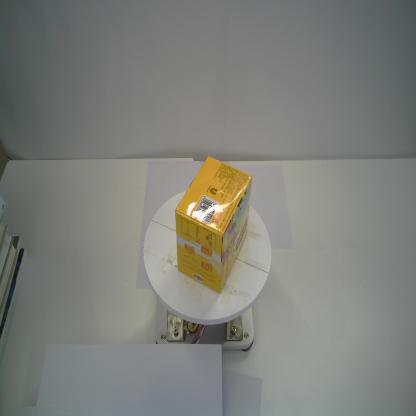Instant Drink: (174, 155, 252, 294)
